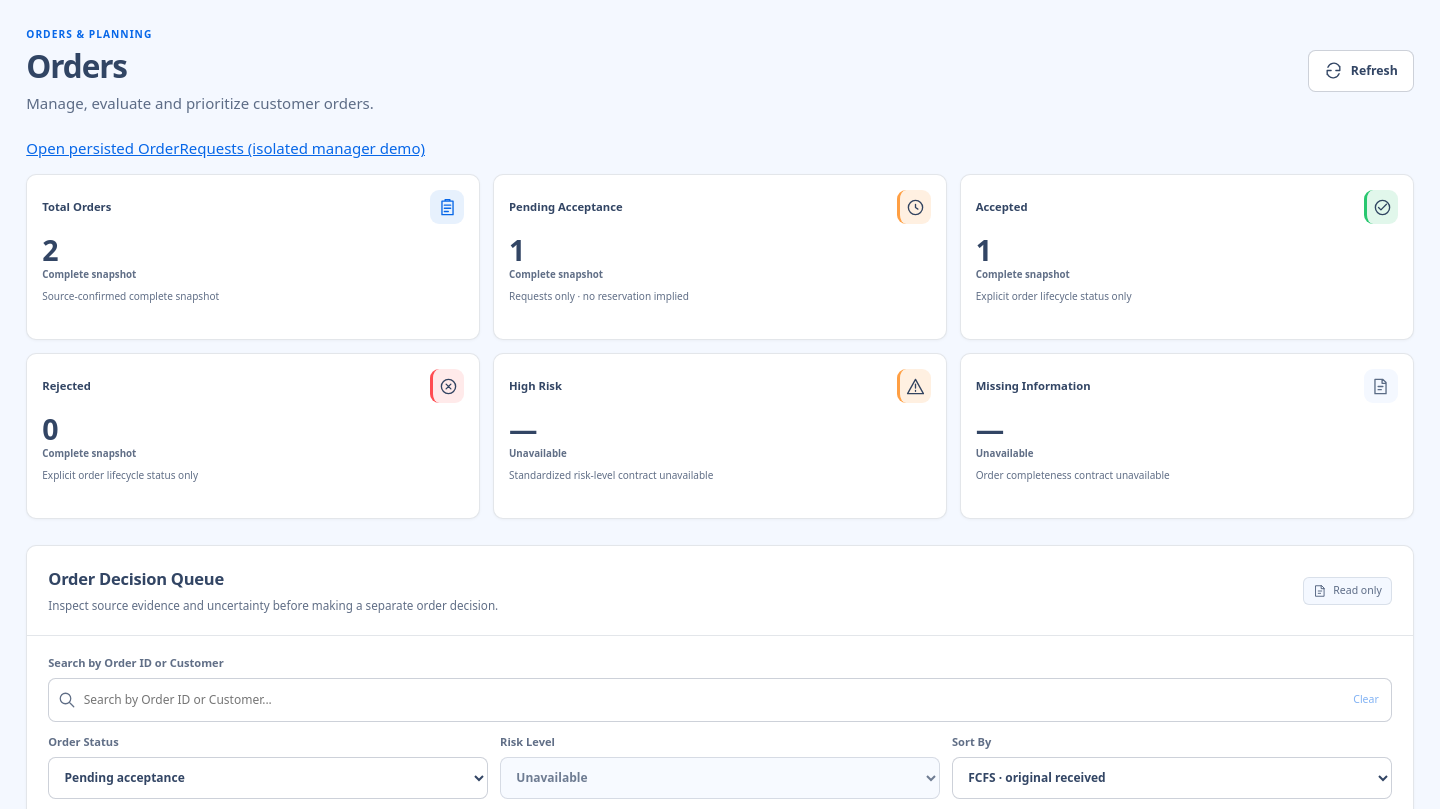
Scenario: uses the existing Queue filtering to display only pending source rows at the Pending route
Select "Accepted" in the dropdown labelled "Order Status" at point(268, 778), box [48,757,488,799]
(page scrolled)
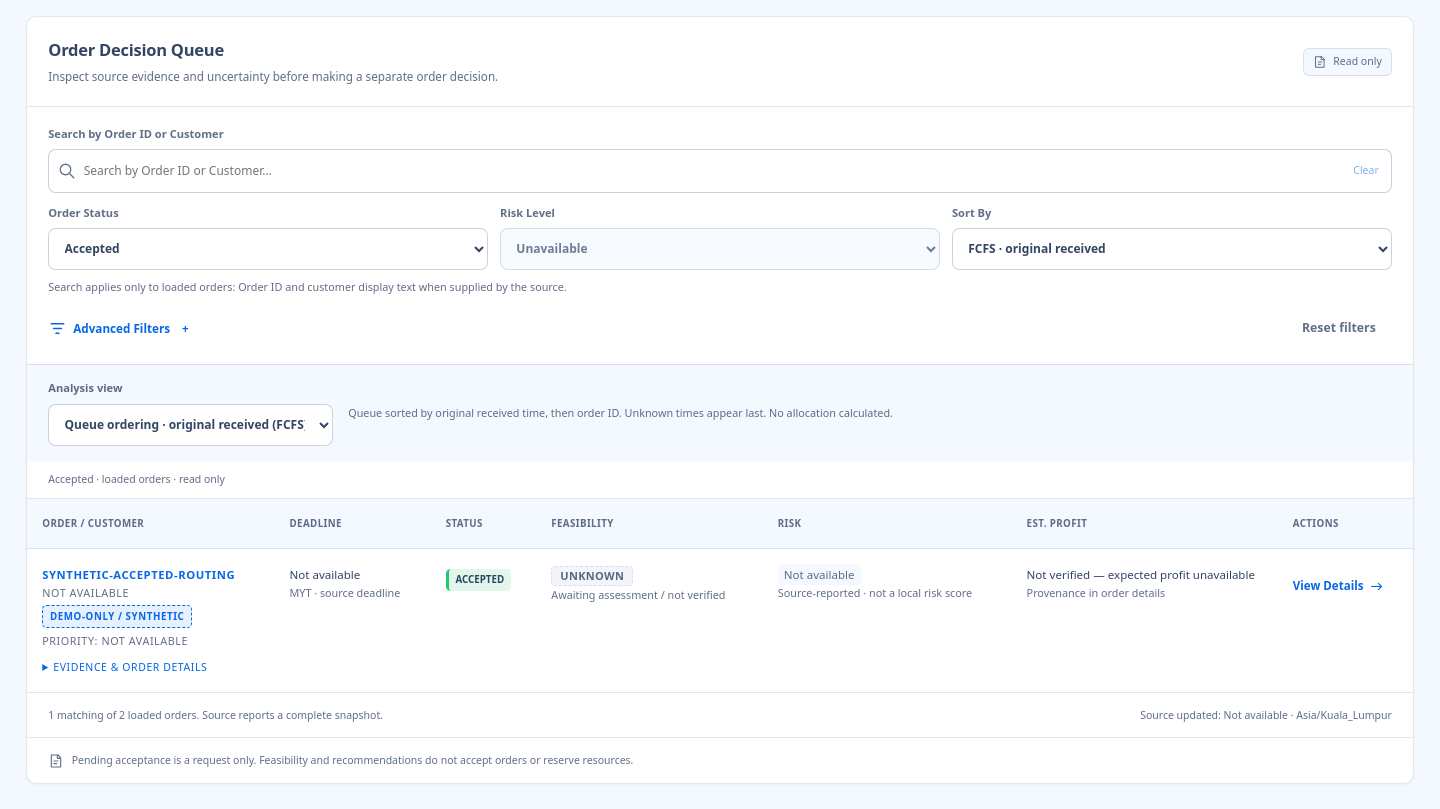
Check: the link with aria-label "View Details for synthetic-accepted-routing" is shown, box [1293,577,1384,596]
